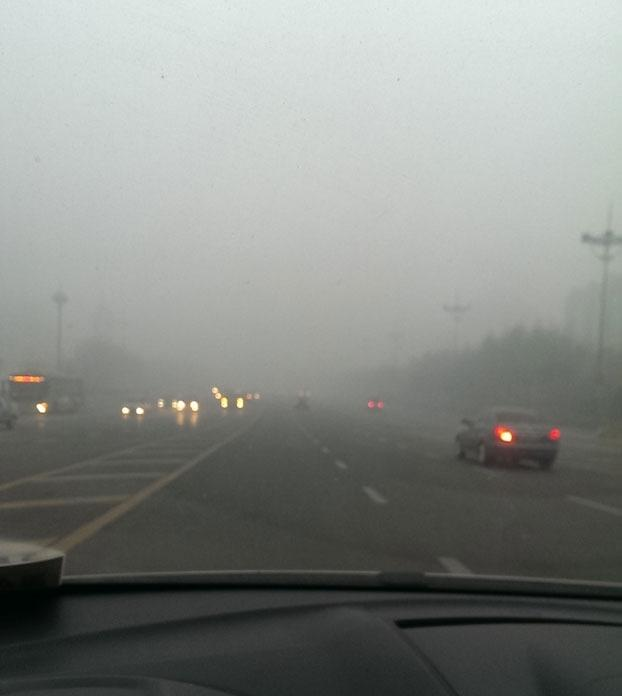bus: (1, 369, 89, 416)
car: (451, 404, 561, 469)
